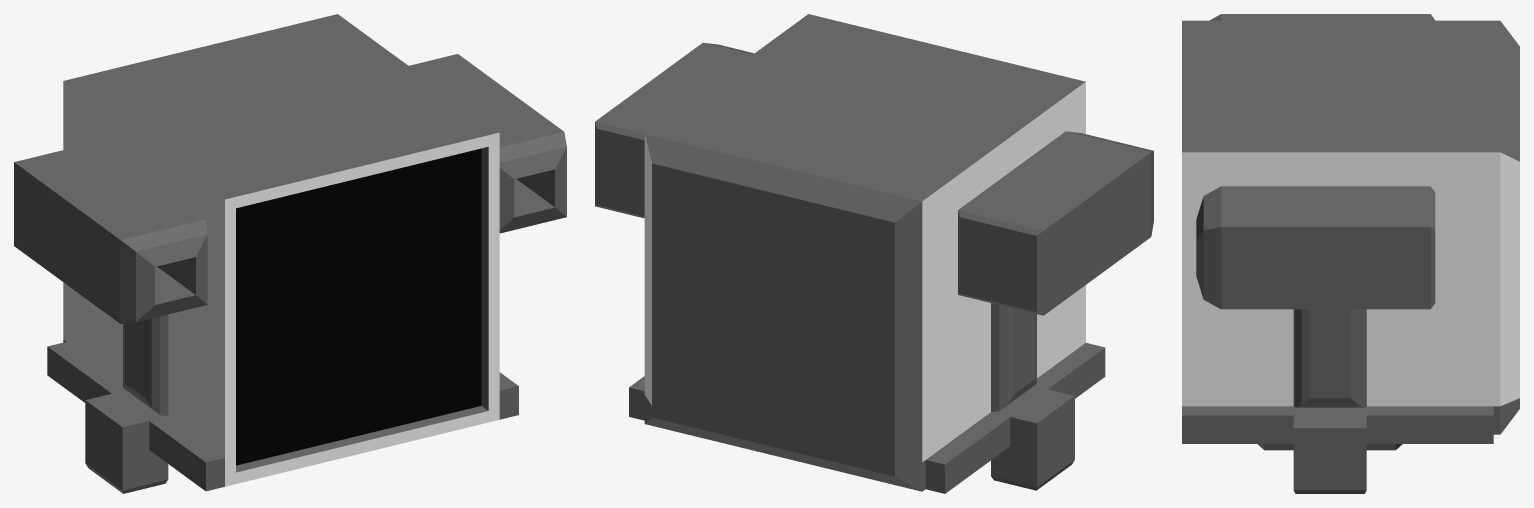
The model's file is BigBoss.fbx.
The picture shows the model from 3 angles, left to right: view 1: azimuth 30°, elevation 25°; view 2: azimuth 150°, elevation 25°; view 3: azimuth 270°, elevation 25°; orthographic projection. The views are drawn at different scales.
Visible parts, largest first — view 1: Cube; view 2: Cube; view 3: Cube.
Part boxes in pixels (bbox=[...]): Cube: bbox=[14, 14, 566, 493]; Cube: bbox=[595, 14, 1153, 493]; Cube: bbox=[1182, 14, 1519, 493].
Size of the model in its own units: 323 by 228 by 217.
